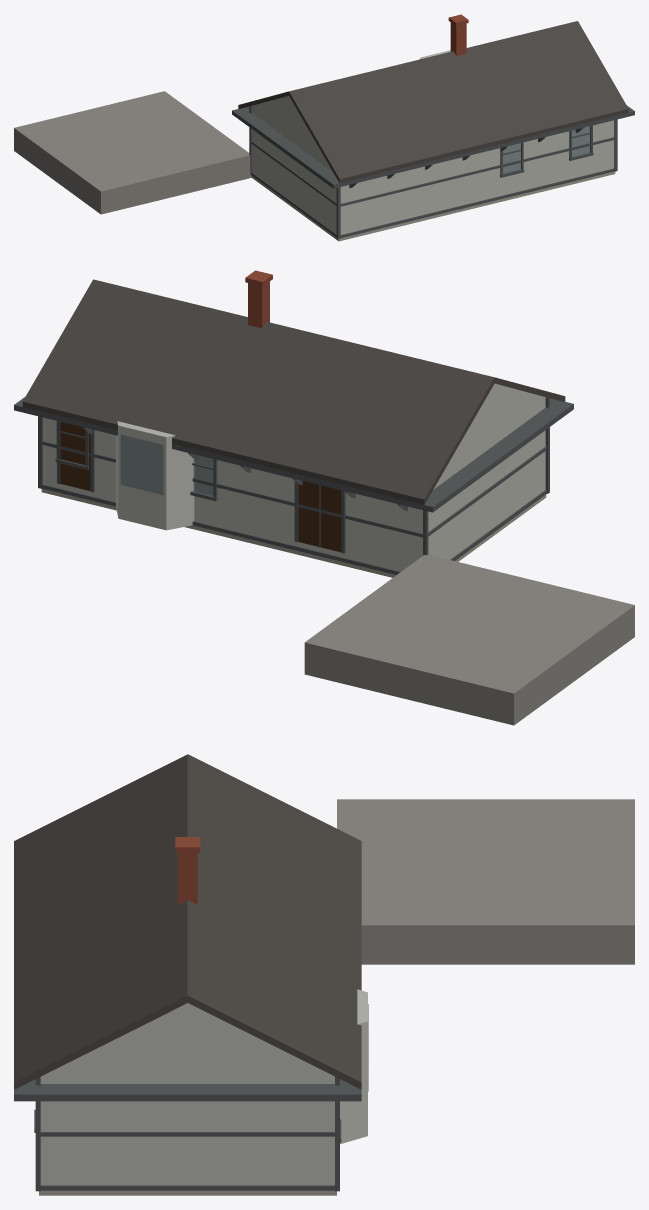
File: Juda_Depot.glb
The picture shows the model from 3 angles, top to bottom: view 1: azimuth 30°, elevation 25°; view 2: azimuth 150°, elevation 25°; view 3: azimuth 270°, elevation 25°; orthographic projection. The views are drawn at different scales.
Parts seen in each view (by area): view 1: roof, platform, walls, trim, foundation, glass, chimney, sash; view 2: roof, platform, walls, trim, doors, glass, foundation, chimney, sash; view 3: roof, platform, walls, trim, foundation, chimney.
Part boxes in pixels (left/top/right/bottom): roof: left=238, top=21, right=628, bottom=182; platform: left=14, top=91, right=251, bottom=214; walls: left=252, top=50, right=614, bottom=234; trim: left=232, top=105, right=634, bottom=239; foundation: left=251, top=171, right=615, bottom=241; glass: left=503, top=126, right=589, bottom=173; chimney: left=448, top=14, right=468, bottom=56; sash: left=500, top=125, right=593, bottom=177; roof: left=22, top=279, right=565, bottom=504; platform: left=304, top=554, right=634, bottom=725; walls: left=43, top=383, right=545, bottom=571; trim: left=14, top=397, right=573, bottom=574; doors: left=60, top=422, right=341, bottom=552; glass: left=121, top=434, right=212, bottom=495; foundation: left=41, top=488, right=546, bottom=577; chimney: left=245, top=270, right=272, bottom=328; sash: left=55, top=421, right=217, bottom=501; roof: left=14, top=754, right=361, bottom=1089; platform: left=337, top=799, right=634, bottom=964; walls: left=40, top=989, right=367, bottom=1185; trim: left=14, top=1076, right=361, bottom=1191; foundation: left=39, top=1190, right=336, bottom=1195; chimney: left=175, top=837, right=200, bottom=904.
Size of the model in its own units: 0.7357 by 0.2417 by 0.5255.
